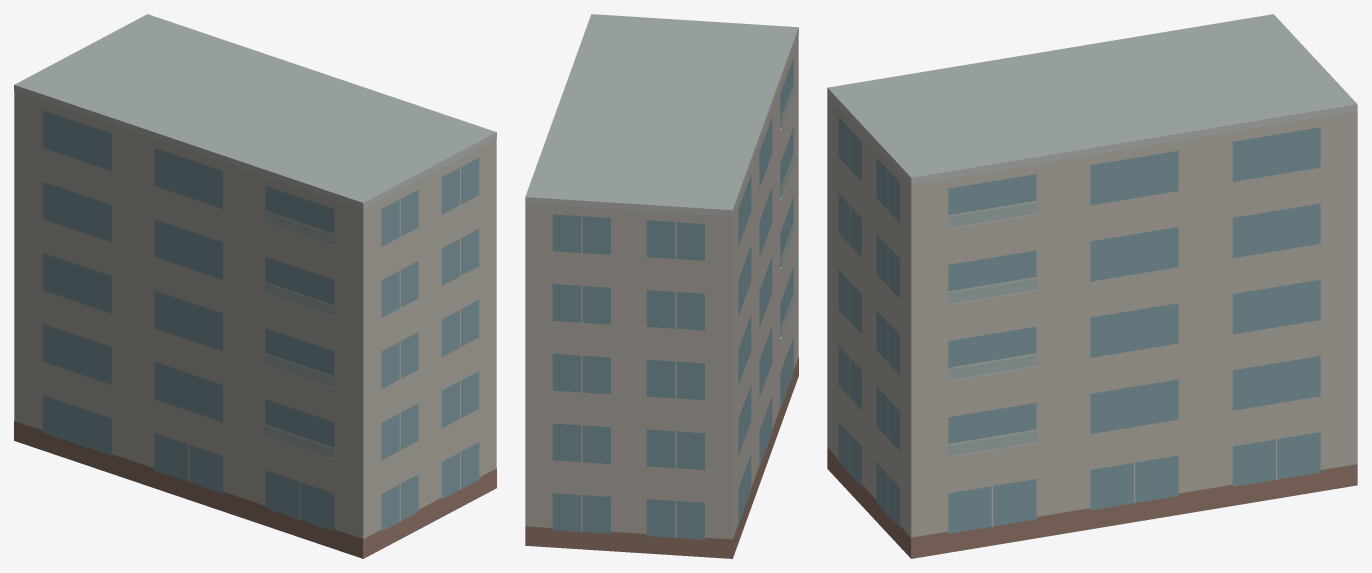
The model's file is survey-upis-32889250.glb.
3 renders of one model, left to right at view 1: azimuth 30°, elevation 25°; view 2: azimuth 150°, elevation 25°; view 3: azimuth 270°, elevation 25°, orthographic. The views are drawn at different scales.
Visible parts, largest first — view 1: survey-upis-32889250.tmp; view 2: survey-upis-32889250.tmp; view 3: survey-upis-32889250.tmp.
Part boxes in pixels (left/top/right/bottom): survey-upis-32889250.tmp: left=14, top=14, right=496, bottom=558; survey-upis-32889250.tmp: left=525, top=14, right=798, bottom=558; survey-upis-32889250.tmp: left=827, top=14, right=1357, bottom=558.
Bounding box in the file's own units: 12.64 × 13.7 × 17.28.
